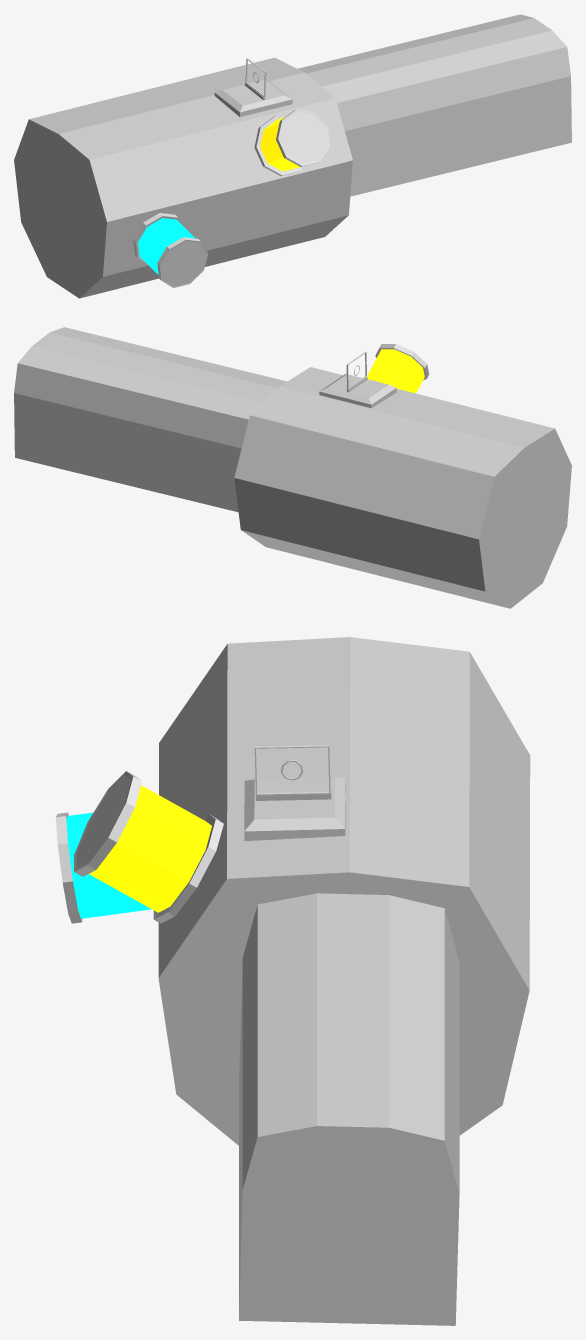
Rendered from PortalButScuffed.fbx.
3 renders of one model, top to bottom at view 1: azimuth 30°, elevation 25°; view 2: azimuth 150°, elevation 25°; view 3: azimuth 270°, elevation 25°, orthographic. The views are drawn at different scales.
Parts seen in each view (by area): view 1: Cylinder, Cube, Cylinder.001, Cylinder.002, Cube.001; view 2: Cylinder, Cube, Cylinder.002, Cube.001; view 3: Cylinder, Cube, Cylinder.002, Cube.001, Cylinder.001.
Boxes of the visible parts, bbox=[...] form: Cylinder: bbox=[14, 57, 352, 298]; Cube: bbox=[297, 14, 571, 196]; Cylinder.001: bbox=[133, 213, 208, 287]; Cylinder.002: bbox=[254, 109, 329, 176]; Cube.001: bbox=[214, 79, 292, 116]; Cylinder: bbox=[234, 367, 571, 608]; Cube: bbox=[14, 327, 286, 512]; Cylinder.002: bbox=[367, 344, 429, 393]; Cube.001: bbox=[319, 374, 396, 408]; Cylinder: bbox=[158, 637, 530, 1145]; Cube: bbox=[239, 893, 459, 1325]; Cylinder.002: bbox=[74, 771, 223, 923]; Cube.001: bbox=[244, 777, 345, 840]; Cylinder.001: bbox=[55, 812, 151, 923].
Size of the model in its own units: 529 by 195 by 225.
